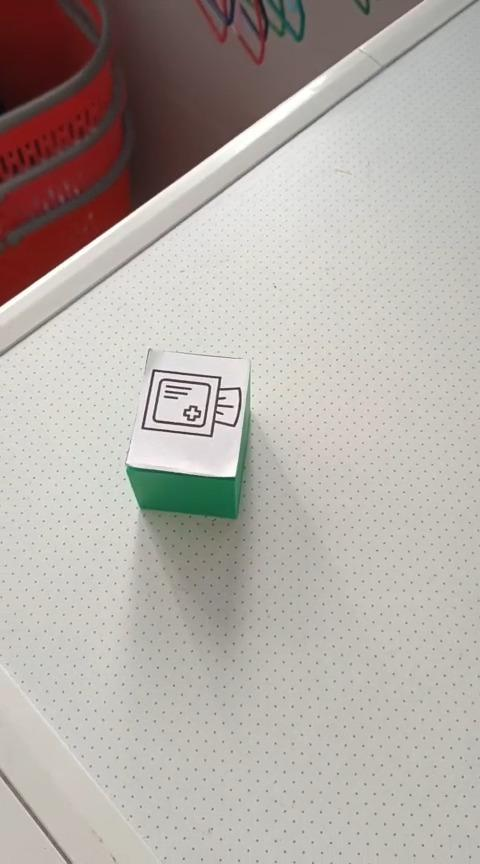Gauze: (123, 346, 252, 520)
